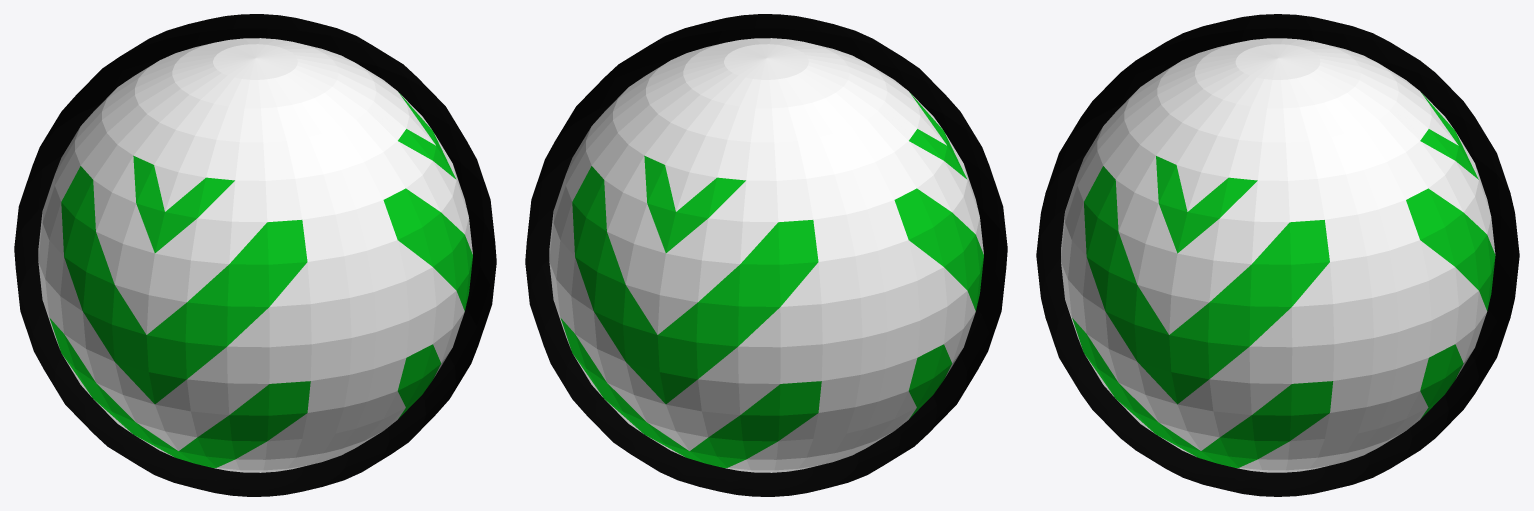
File: DwarfPWR.fbx
3 views of the same model, side by side, from view 1: azimuth 30°, elevation 25°; view 2: azimuth 150°, elevation 25°; view 3: azimuth 270°, elevation 25° (orthographic).
Visible parts, largest first — view 1: DwarfPWR; view 2: DwarfPWR; view 3: DwarfPWR.
Part boxes in pixels (x1,y1,x2,y2): DwarfPWR: (14, 14, 496, 496); DwarfPWR: (525, 14, 1007, 496); DwarfPWR: (1036, 14, 1519, 496).
Bounding box in the file's own units: 200 × 200 × 200.
